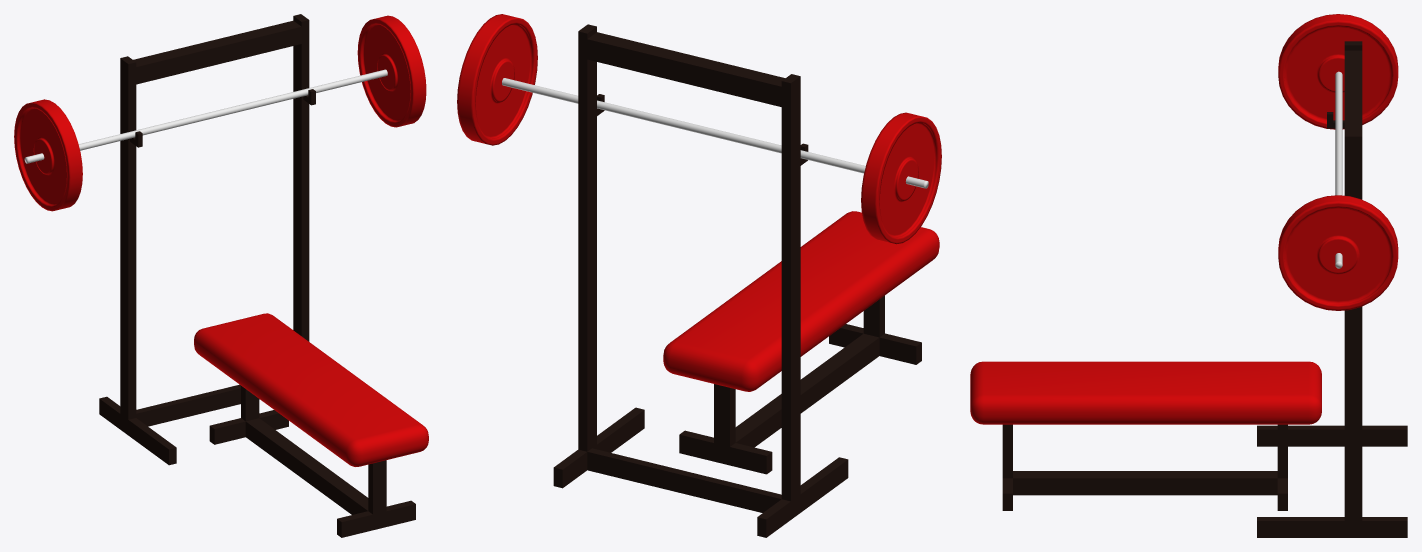
File: Barbell.fbx
3 views of the same model, side by side, from view 1: azimuth 30°, elevation 25°; view 2: azimuth 150°, elevation 25°; view 3: azimuth 270°, elevation 25° (orthographic). The views are drawn at different scales.
Visible parts, largest first — view 1: Barbell_mesh, Barbell_mesh.001, Leg.001; view 2: Barbell_mesh, Barbell_mesh.001, Leg.001; view 3: Barbell_mesh.001, Barbell_mesh, Leg.001.
Boxes of the visible parts, box(x1,y1,x2,y2) form: Barbell_mesh: box(99, 14, 415, 537); Barbell_mesh.001: box(194, 313, 428, 466); Leg.001: box(14, 15, 426, 211); Barbell_mesh: box(553, 24, 921, 537); Barbell_mesh.001: box(663, 211, 939, 391); Leg.001: box(457, 14, 941, 244); Barbell_mesh.001: box(970, 361, 1321, 424); Barbell_mesh: box(1002, 41, 1407, 537); Leg.001: box(1278, 14, 1398, 310).
Size of the model in its own units: 162 by 148 by 146.
